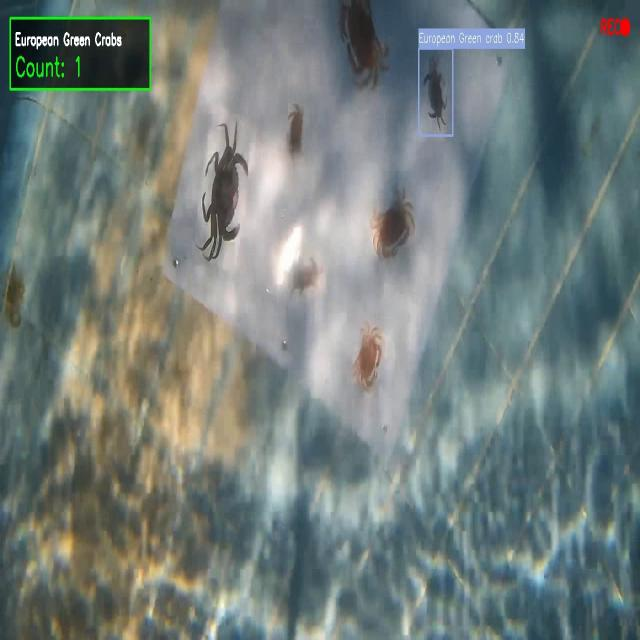European_Green_Crab: (192, 113, 256, 267), (419, 46, 454, 131), (283, 242, 325, 312)
